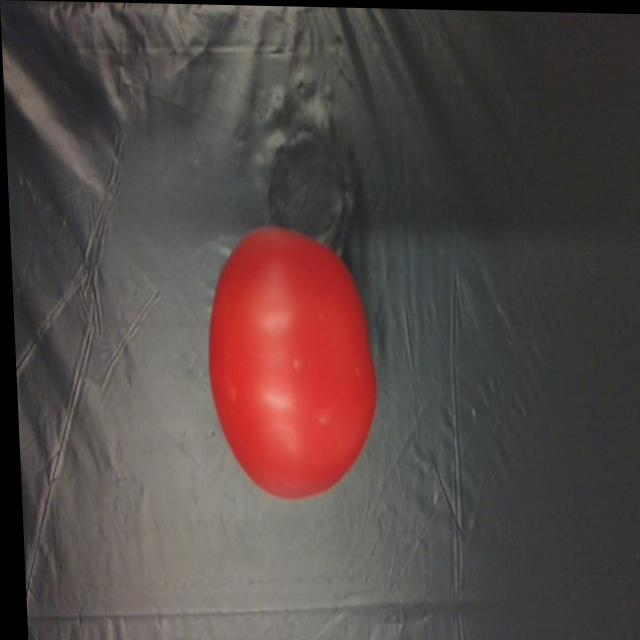kirmizi: (195, 219, 386, 511)
